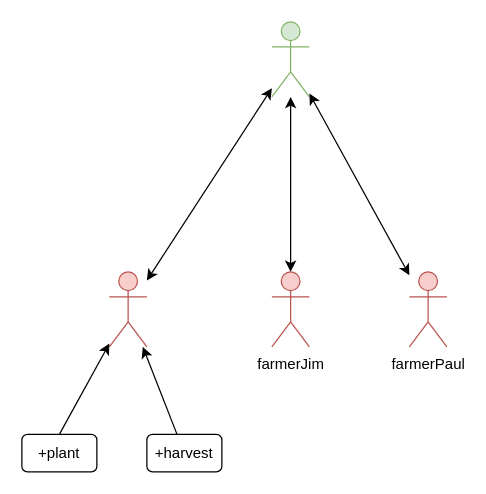
Image size: 486x494. Some labels were removed from this diagram. Each missing label, with the centre of its shape:
"farmerBob" goes at [127,309].
"Manager" goes at [290,59].
